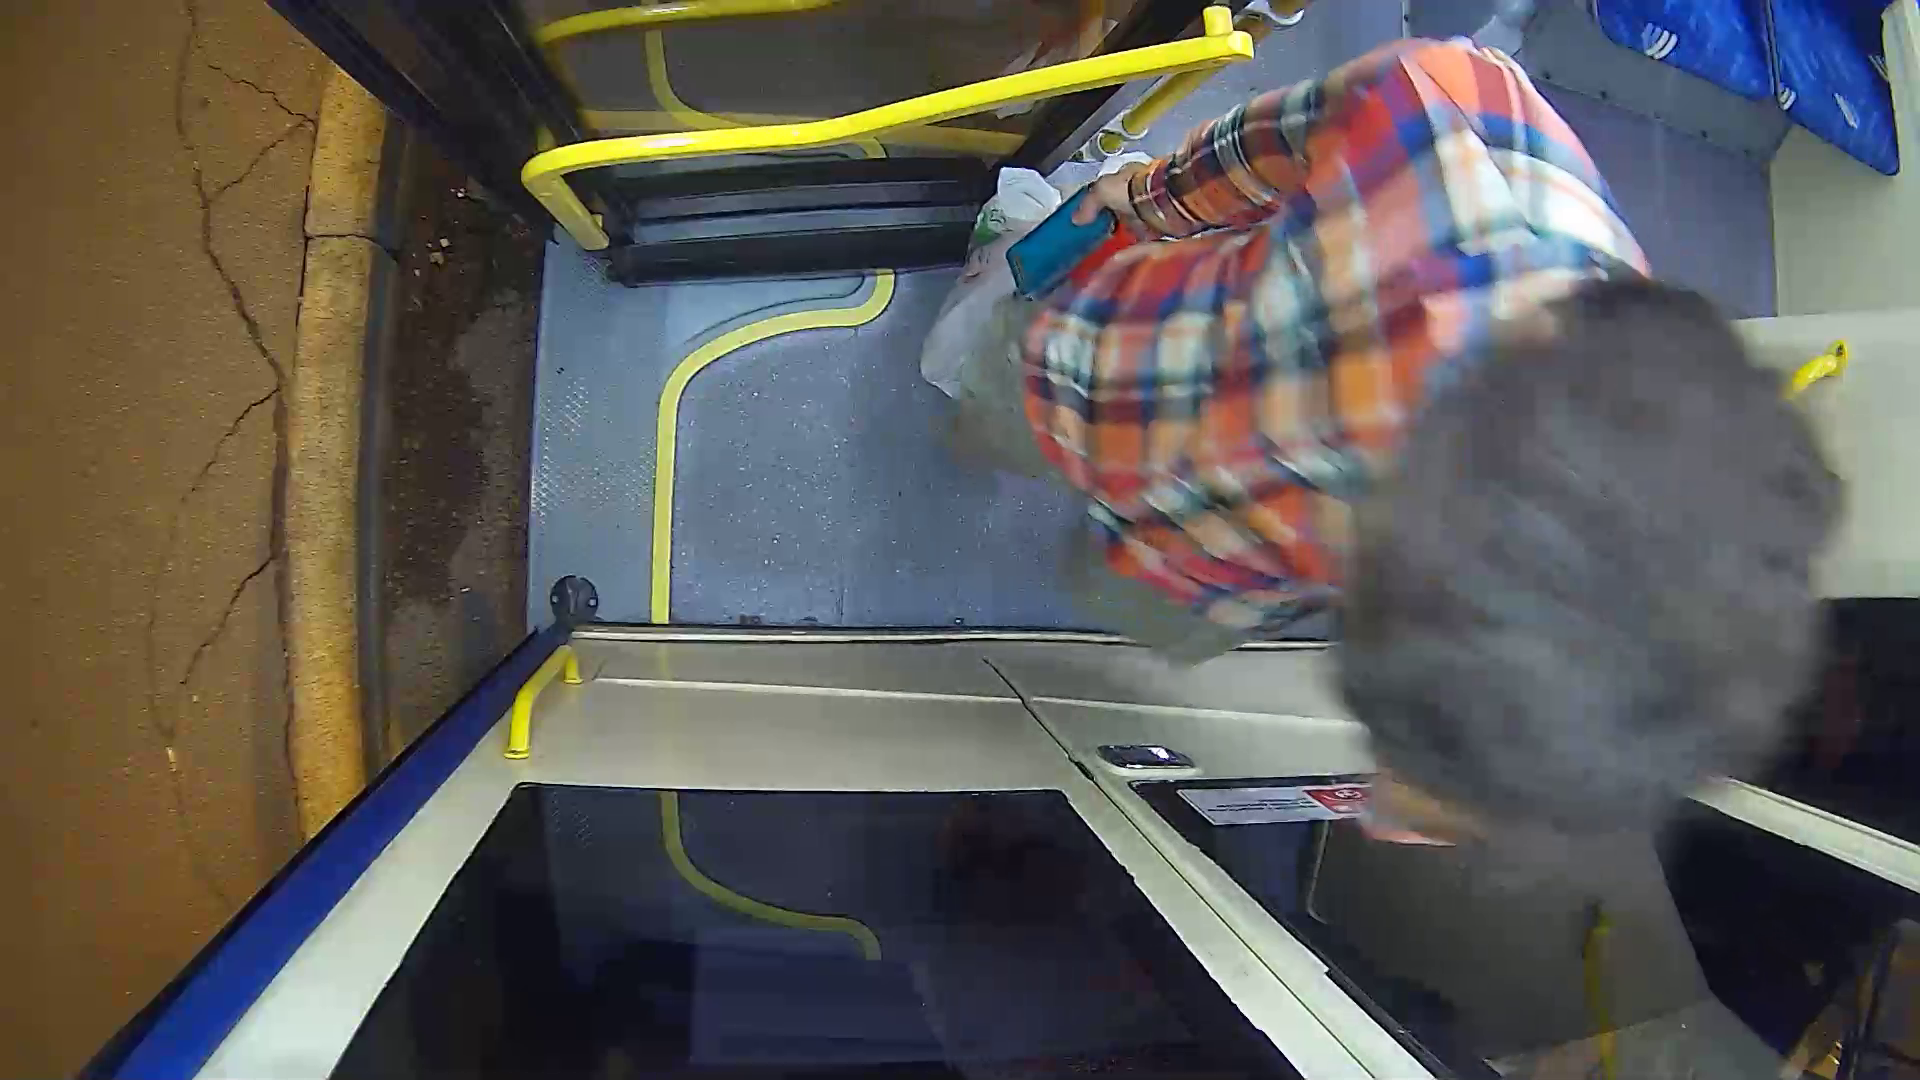person: (893, 67, 1819, 811)
